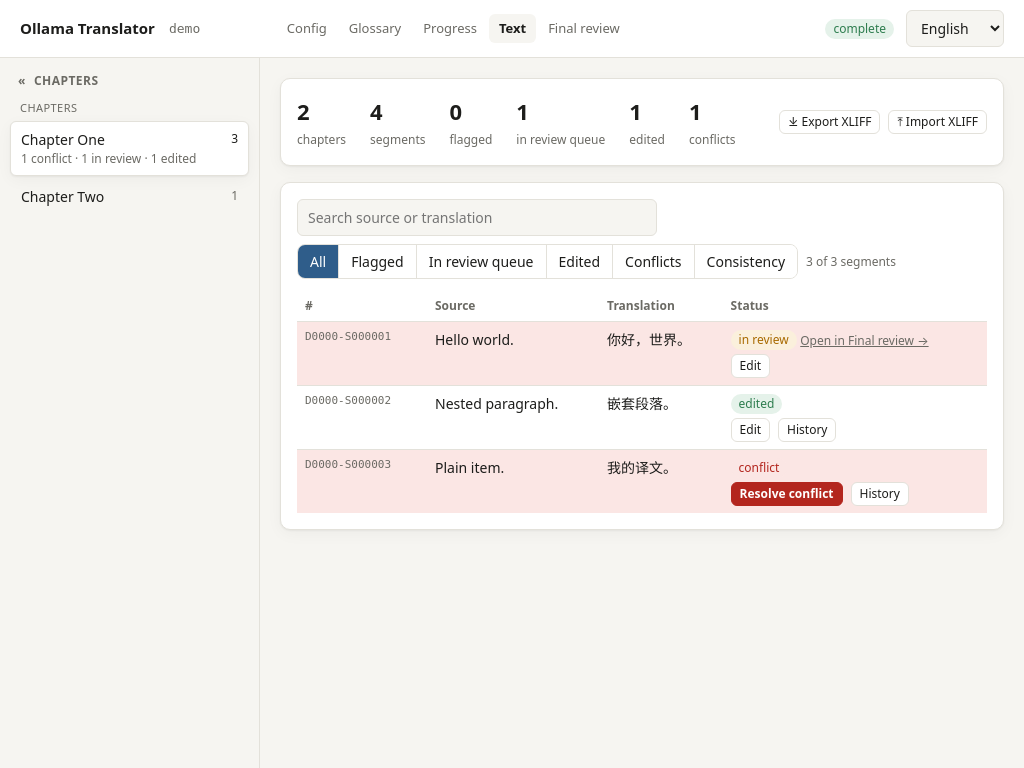
Test: Text tab › reading the book › loads another chapter when it is picked in the sidebar
Expected: the text "Hello world." is shown, [427,322,599,386]
Click the button "Chapter Two 1". click: (130, 196)
box: [10,178,249,214]
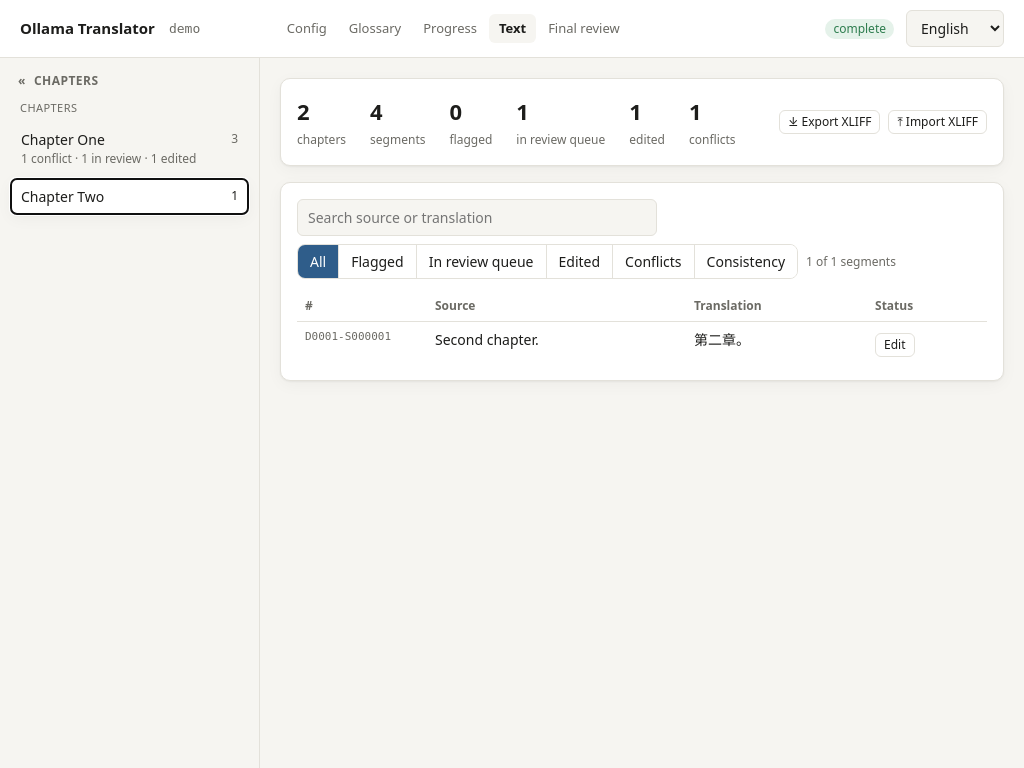
Now the text "Second chapter." is shown, box [427,322,686,364]
Now the text "Hello world." is gone
